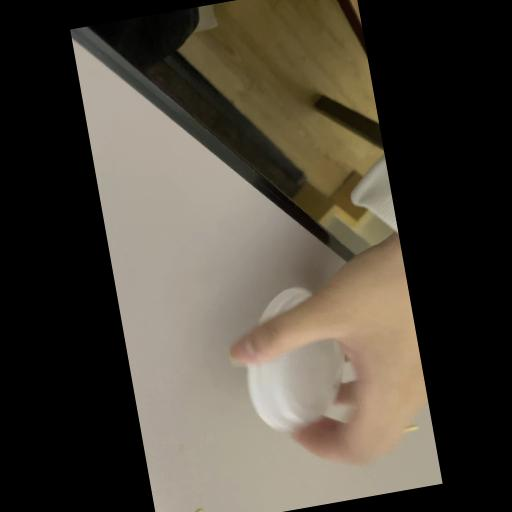lp_cup_lids: (202, 256, 374, 466)
